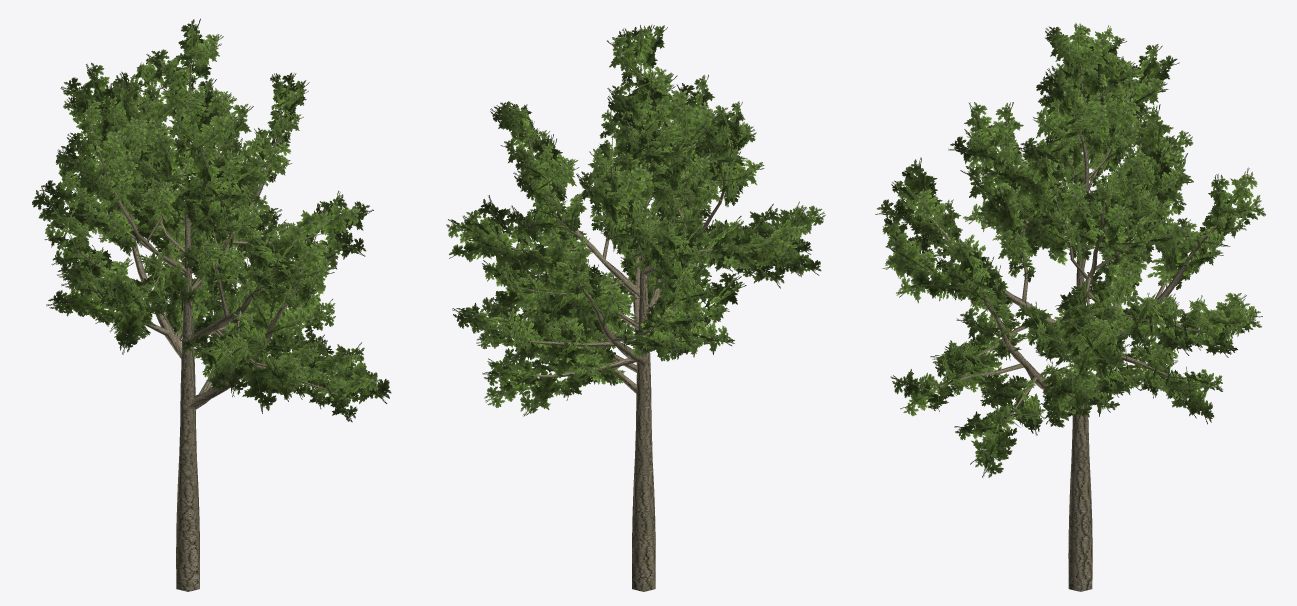
Rendered from ez-oak-02-near.glb.
The picture shows the model from 3 angles, left to right: view 1: azimuth 30°, elevation 25°; view 2: azimuth 150°, elevation 25°; view 3: azimuth 270°, elevation 25°; orthographic projection.
Parts seen in each view (by area): view 1: leaves, branches; view 2: leaves, branches; view 3: leaves, branches.
Boxes of the visible parts, left/top/right/bottom form: leaves: left=32, top=18, right=391, bottom=422; branches: left=68, top=59, right=349, bottom=591; leaves: left=446, top=24, right=825, bottom=416; branches: left=510, top=61, right=759, bottom=591; leaves: left=875, top=22, right=1265, bottom=477; branches: left=922, top=63, right=1230, bottom=591.
Bounding box in the file's own units: 40.03 × 65.06 × 42.93.
Materials: 2 (2 with a texture image).
